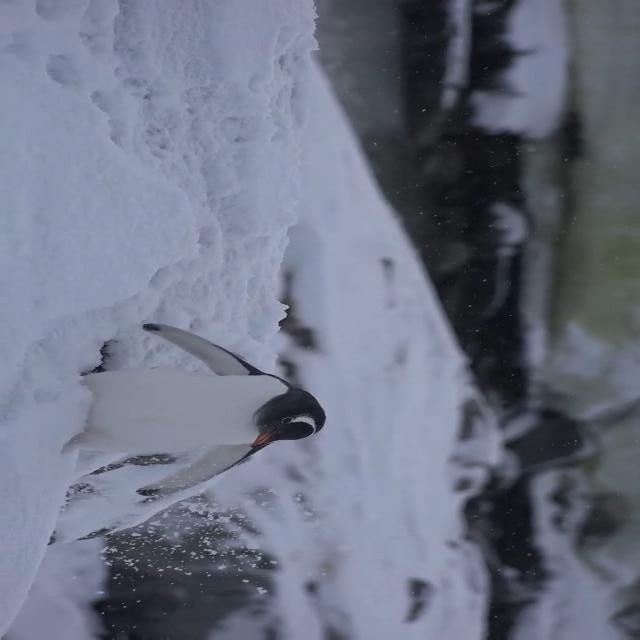penguin: (61, 321, 327, 501)
